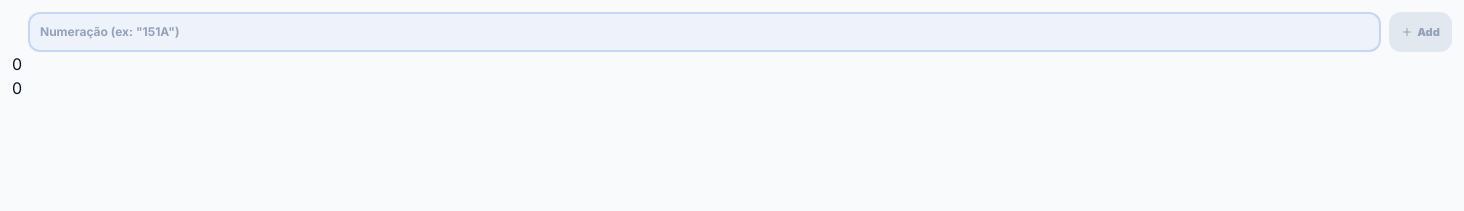
it: NumberingQuickEntry integration › adiciona as 4 variações de '151A' e atualiza o total
Type "151A" into the field with placeholder "Numeração (ex: \"151A\")" at (705, 32), box left=28, top=12, right=1381, bottom=52
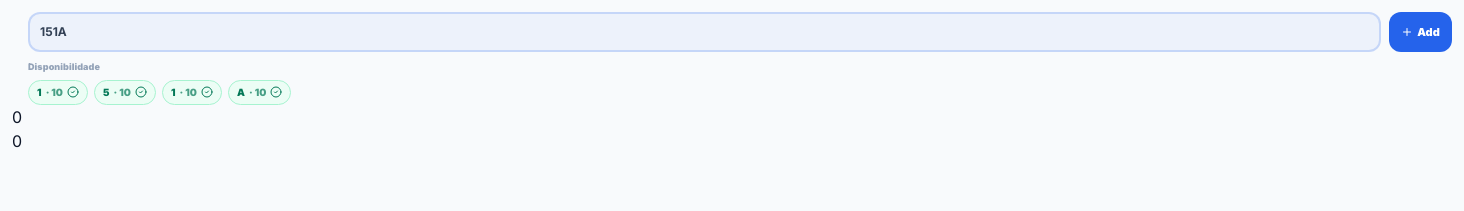
Click the button "Add" at (1421, 32), box left=1389, top=12, right=1452, bottom=52
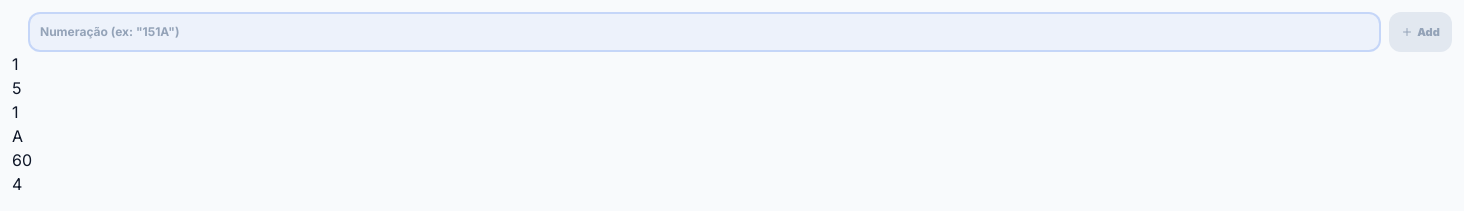
Now the text with test id "count" reads "4", box left=12, top=174, right=22, bottom=194
Now the list items read "1", "5", "1", "A", in this order, box left=12, top=54, right=18, bottom=74; left=12, top=78, right=22, bottom=98; left=12, top=102, right=18, bottom=122; left=12, top=126, right=23, bottom=146
Now the text with test id "total" reads "60", box left=12, top=150, right=32, bottom=170
